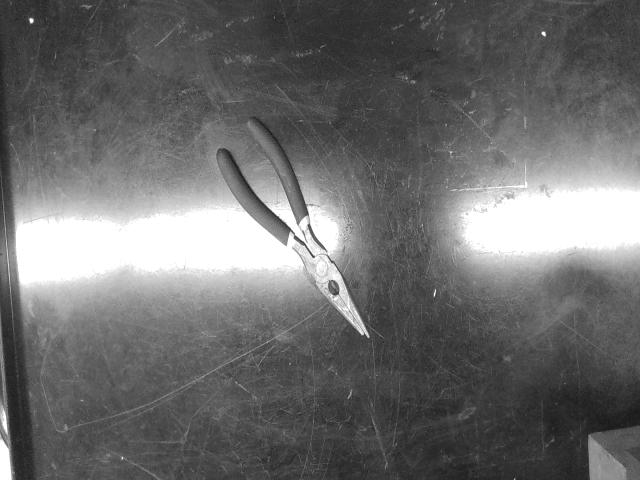Needle-nose pliers: (216, 118, 369, 337)
